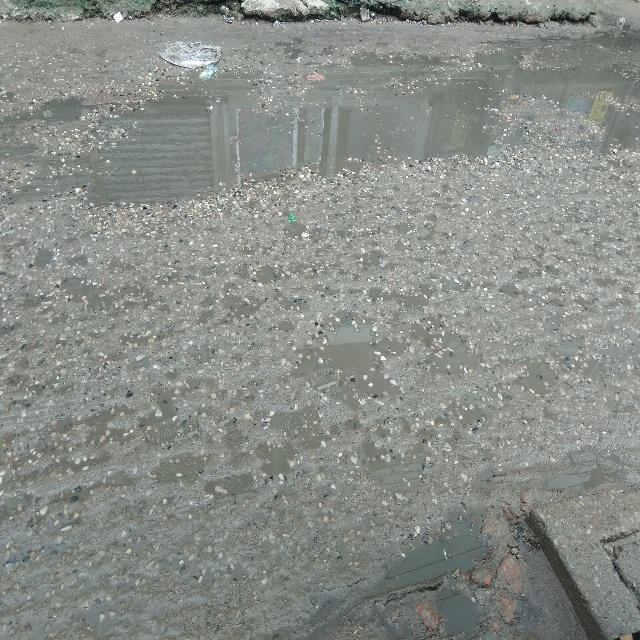Surface Erosion: (0, 0, 640, 245)
